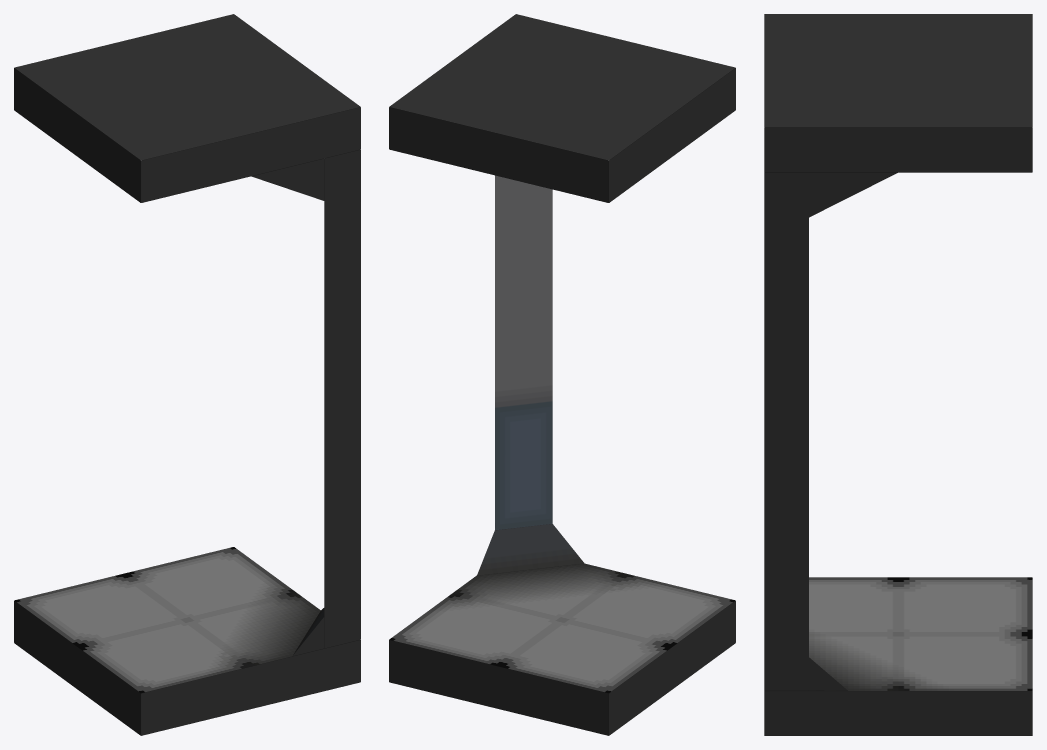
File: ShipWallCorner02.obj
The picture shows the model from 3 angles, left to right: view 1: azimuth 30°, elevation 25°; view 2: azimuth 150°, elevation 25°; view 3: azimuth 270°, elevation 25°; orthographic projection. The views are drawn at different scales.
Parts seen in each view (by area): view 1: ShipWallCorner02; view 2: ShipWallCorner02; view 3: ShipWallCorner02.
Part boxes in pixels (x1,y1,x2,y2): ShipWallCorner02: (14, 14, 360, 735); ShipWallCorner02: (389, 14, 735, 735); ShipWallCorner02: (764, 14, 1032, 735).
Bounding box in the file's own units: 1 × 2.5 × 1.
Materials: 1 (1 with a texture image).
